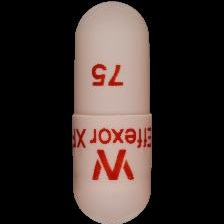54868-4253: (0, 0, 224, 224)
